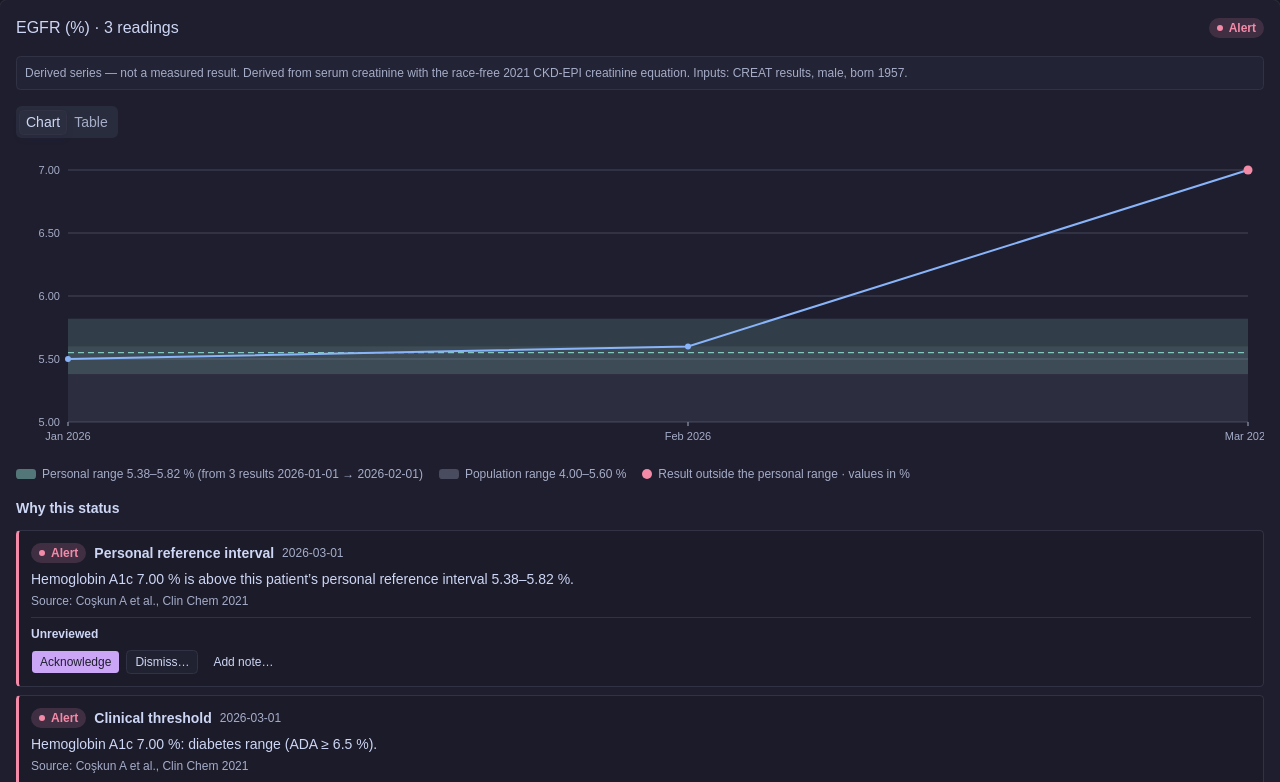
it: derived series › says it is derived, from what and how, and labels the input column
expect the text "Derived series — not a measured result. Derived from serum creatinine" is shown: met, box [16,56,1264,90]
Click the tab "Table": coordinates (91, 122) [67,110,115,134]
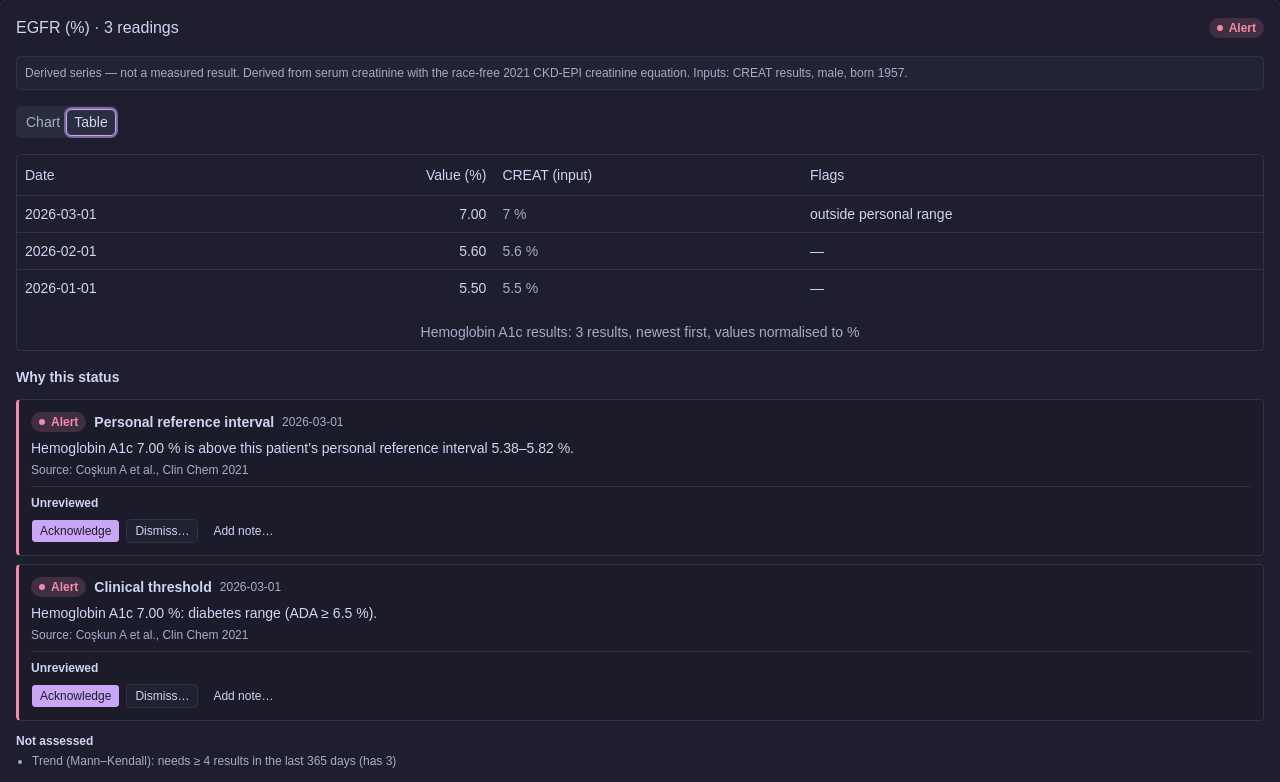
expect the column heading "CREAT (input)" is shown: met, box [494,155,802,195]
